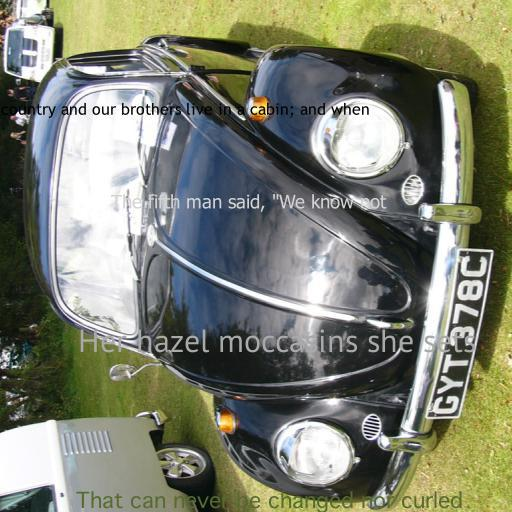Geneva: (75, 491, 463, 512)
PT Sans: (78, 329, 476, 353)
Tahoma: (110, 194, 386, 212)
Trebuchet MS: (0, 102, 370, 119)
